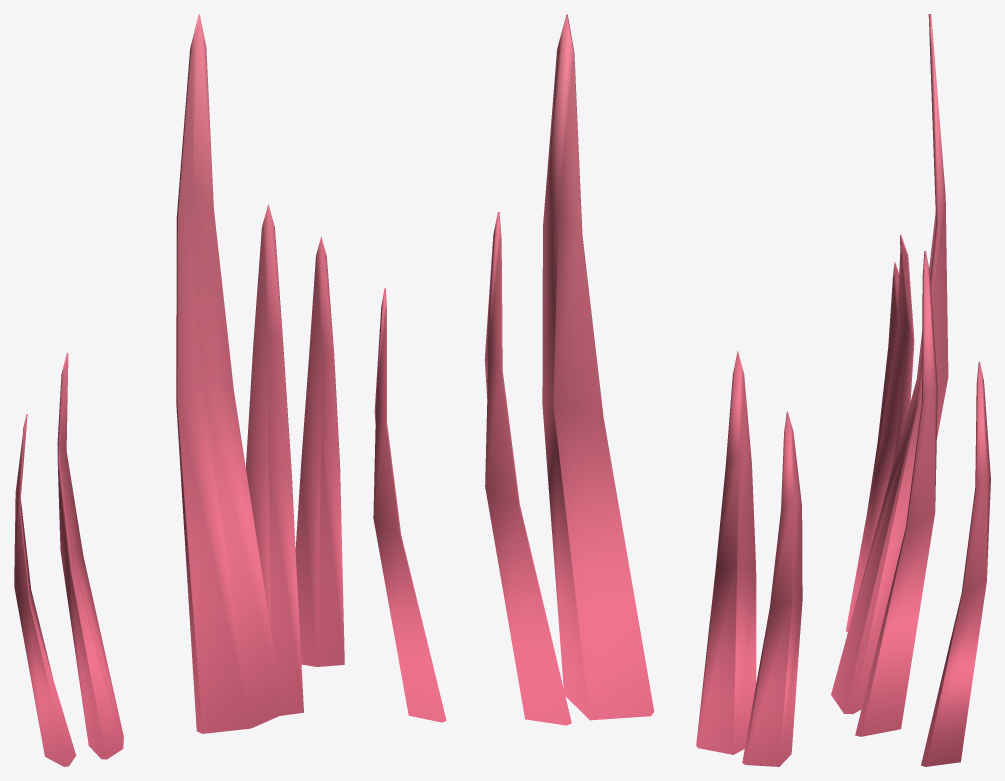
The model's file is mdl_GrassBlade.fbx.
3 views of the same model, side by side, from view 1: azimuth 30°, elevation 25°; view 2: azimuth 150°, elevation 25°; view 3: azimuth 270°, elevation 25° (orthographic). The views are drawn at different scales.
Parts seen in each view (by area): view 1: mdl_GrassBlade; view 2: mdl_GrassBlade; view 3: mdl_GrassBlade.
Part boxes in pixels (x1,y1,x2,y2): mdl_GrassBlade: [14, 14, 344, 766]; mdl_GrassBlade: [373, 14, 802, 766]; mdl_GrassBlade: [831, 14, 990, 766].
Size of the model in its own units: 2.11 by 3.87 by 0.8151.
